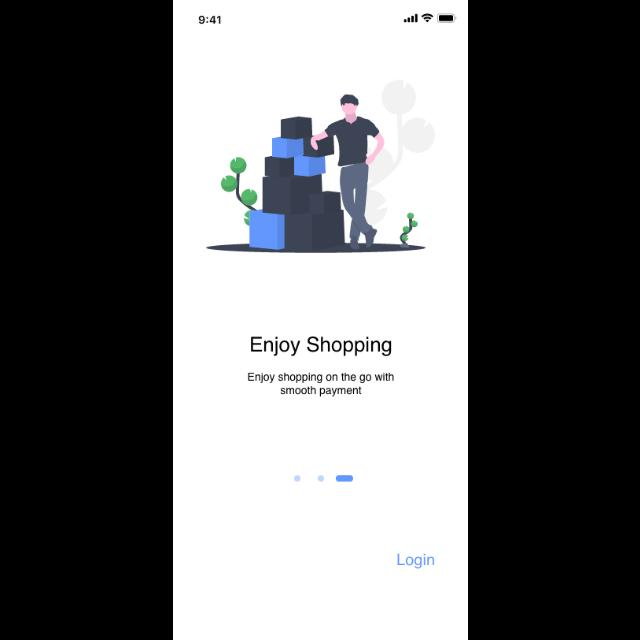image: (207, 80, 436, 254)
pageindicator: (294, 474, 352, 482)
text: (248, 373, 394, 397), (250, 337, 392, 357), (398, 554, 434, 568)
uppertaskbar: (198, 13, 456, 24)
